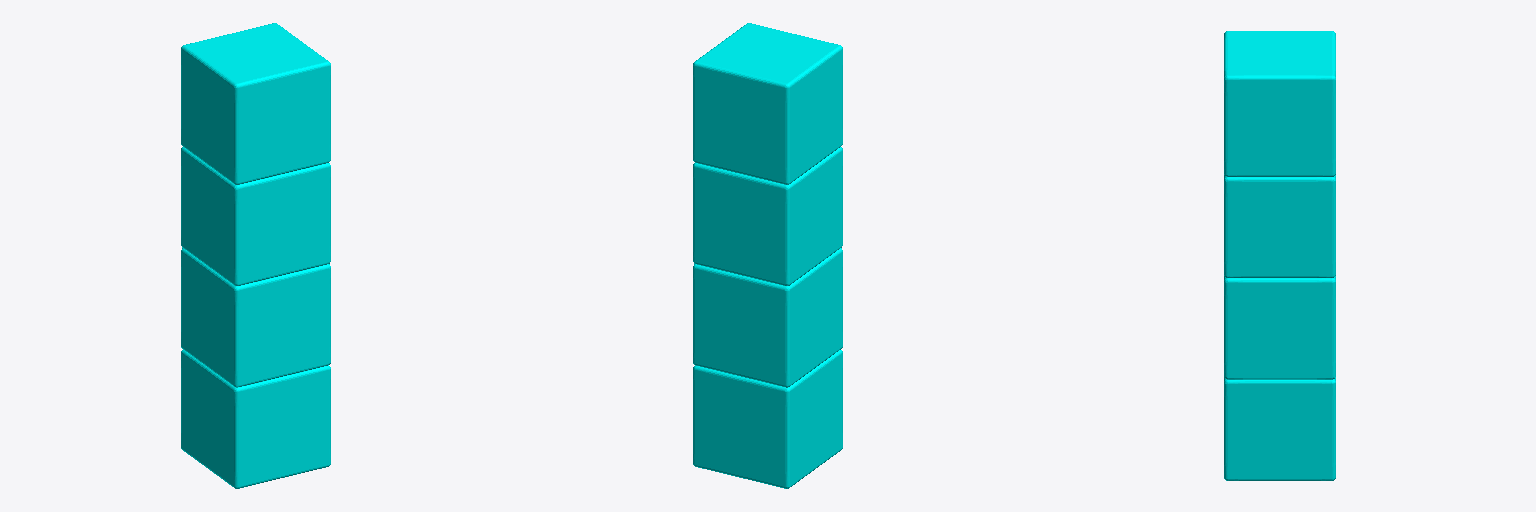
File: Tetris-T.obj
The picture shows the model from 3 angles: view 1: azimuth 30°, elevation 25°; view 2: azimuth 150°, elevation 25°; view 3: azimuth 270°, elevation 25°; orthographic projection.
Bounding box in the file's own units: 15 × 60 × 15.